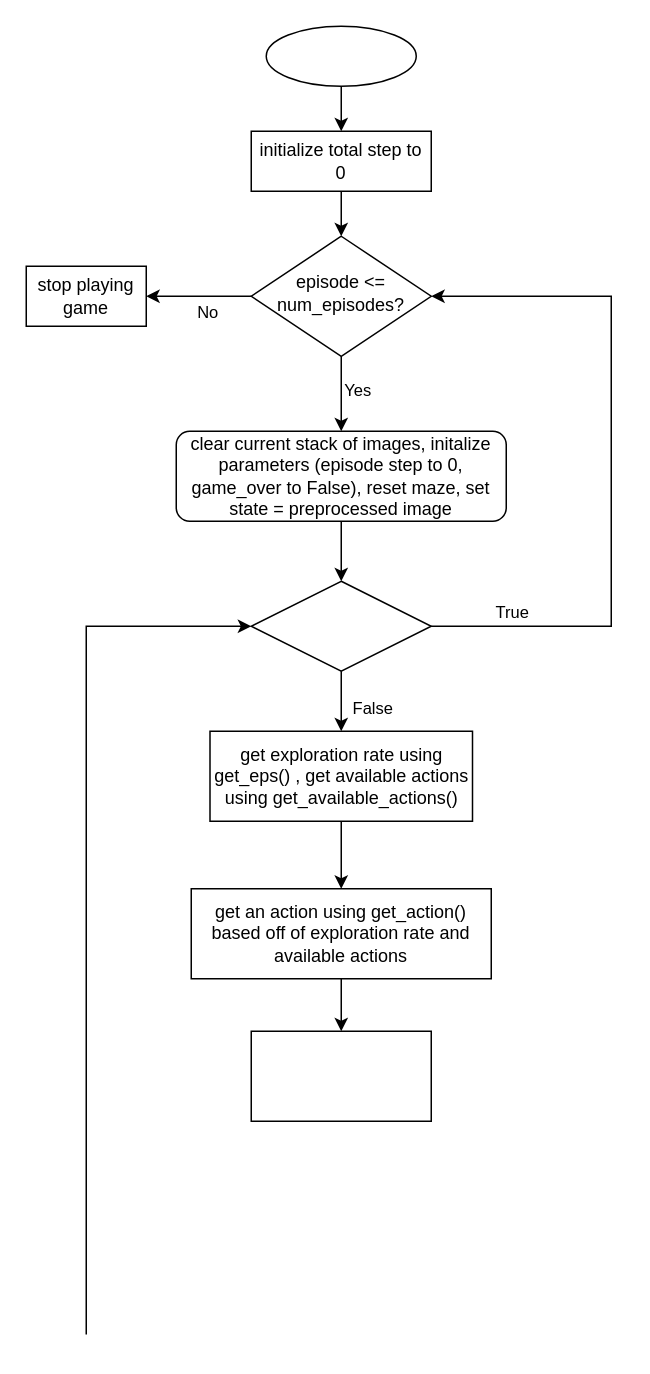
Image size: 650x1374. Some labels were removed from this diagram. Here are the shapes that lost their labels. From the top down, the centre of each, then its label:
At (340,55): "Start".
At (340,625): "game over?".
At (340,1075): "increment total step and episode step".
